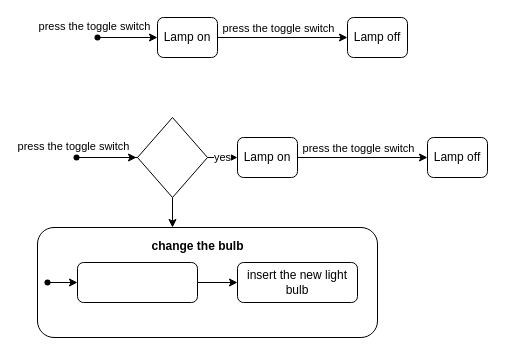
Some shapes in this 505 by 355 pixel diagram are drawn without their labels. Here are the shapes that lost their labels. From the top down, the centre of each, then its label:
At (172,157): "Lamp plugged in?".
At (137,282): "Remove the light bulb".
